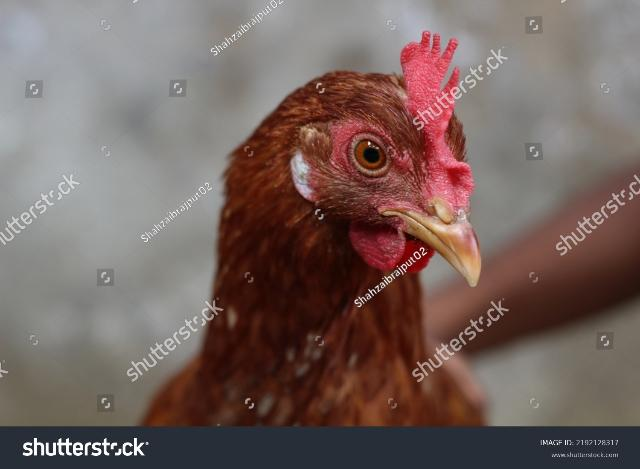Chicken: (144, 31, 491, 424)
